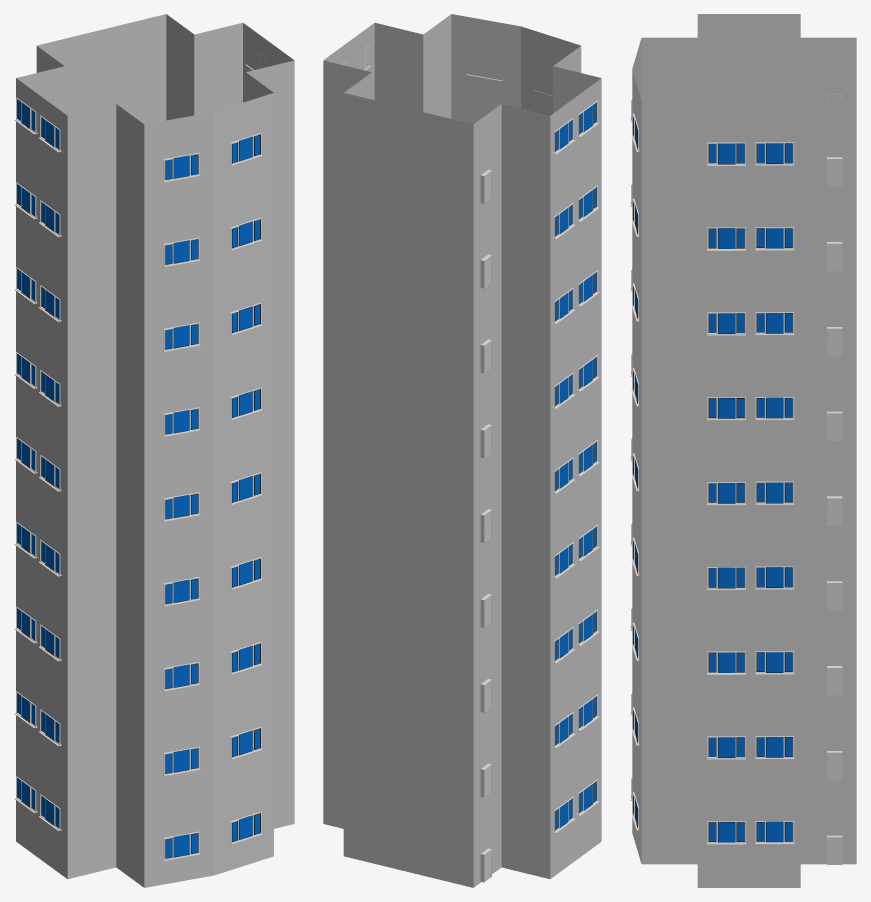
Rendered from solene immeuble_crois03____.fbx.
3 renders of one model, left to right at view 1: azimuth 30°, elevation 25°; view 2: azimuth 150°, elevation 25°; view 3: azimuth 270°, elevation 25°, orthographic.
Visible parts, largest first — view 1: Plane.019; view 2: Plane.019; view 3: Plane.019.
Boxes of the visible parts, x1,y1,x2,y2 form: Plane.019: (14, 14, 294, 887); Plane.019: (323, 14, 601, 887); Plane.019: (630, 14, 856, 887).
Bounding box in the file's own units: 288 × 900 × 242.
